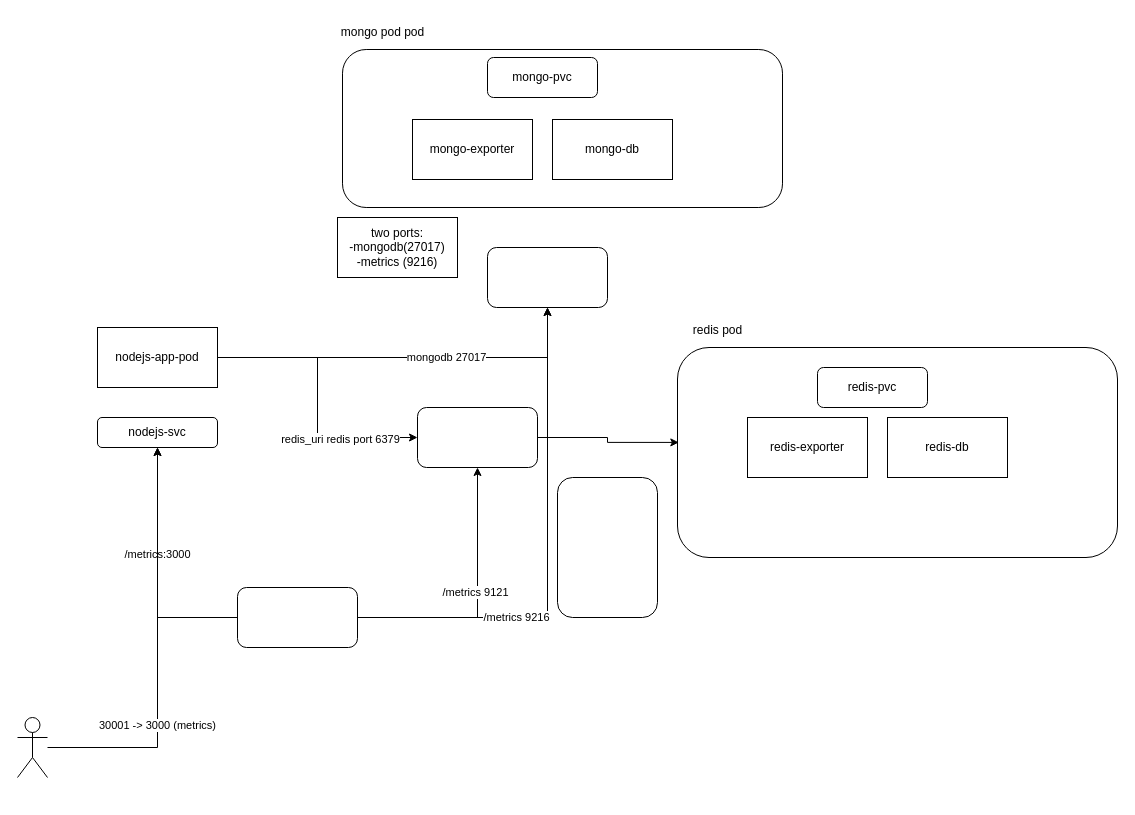
Image size: 1135x815. Some labels were removed from this diagram. The shapes that lost their labels are listed below. From the top down, each one's centre as x and y in pixels, then its label:
At point (547, 277): "mongo-svc".
At point (477, 437): "redis-svc".
At point (607, 547): "two ports - redis: 6379 - metrics: 9121".
At point (297, 617): "prometheus".
At point (32, 747): "Actor".
